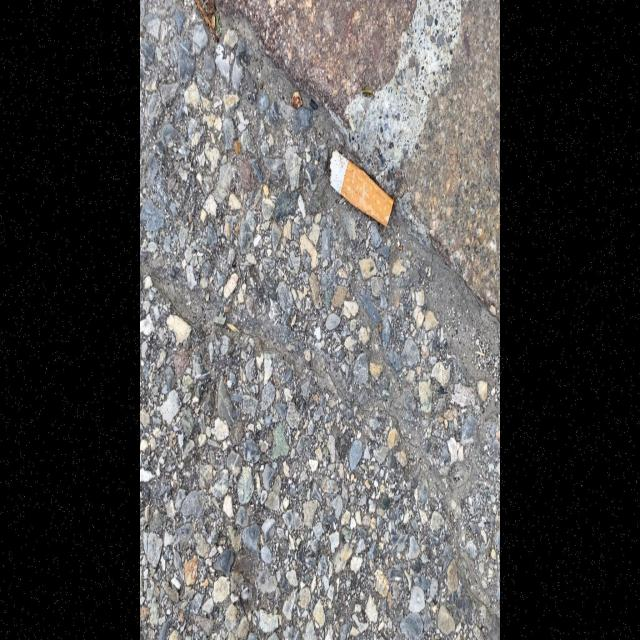other waste: (328, 147, 394, 229)
